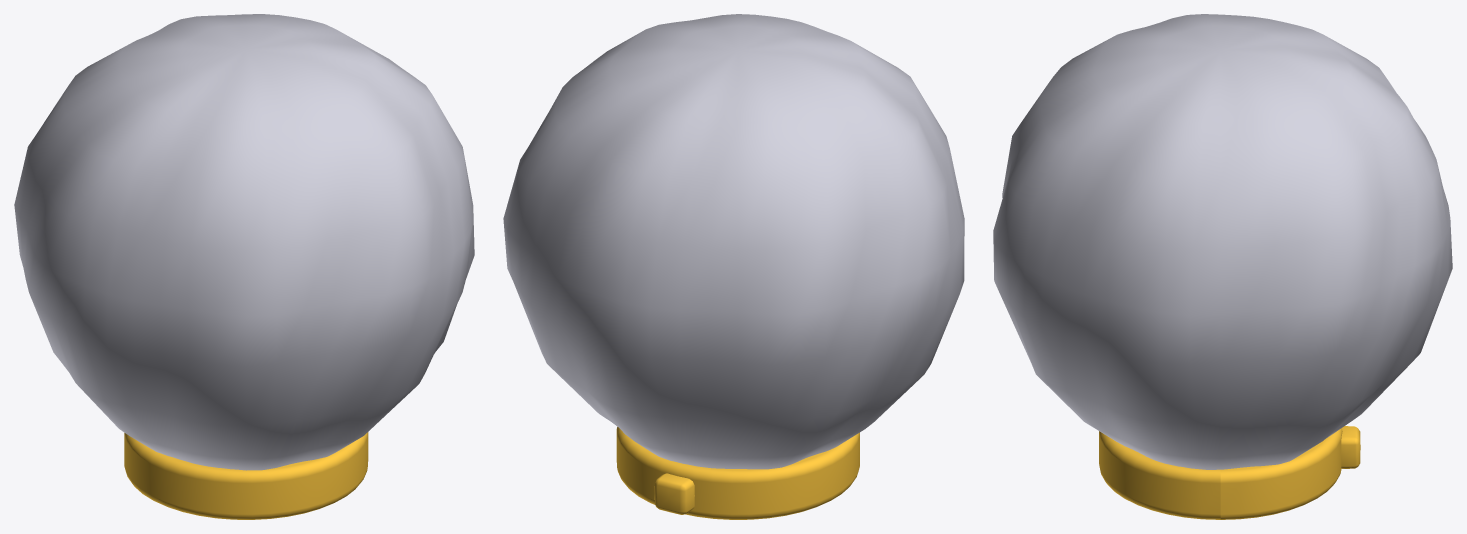
Rendered from BigBadVacuumBag.obj.
3 views of the same model, side by side, from view 1: azimuth 30°, elevation 25°; view 2: azimuth 150°, elevation 25°; view 3: azimuth 270°, elevation 25° (orthographic).
Parts seen in each view (by area): view 1: Bag, Collar; view 2: Bag, Collar; view 3: Bag, Collar.
Boxes of the visible parts, x1,y1,x2,y2 form: Bag: [14, 14, 474, 470]; Collar: [124, 432, 368, 519]; Bag: [503, 14, 964, 469]; Collar: [616, 427, 859, 519]; Bag: [993, 14, 1452, 469]; Collar: [1099, 426, 1360, 519].
Bounding box in the file's own units: 14.21 × 14.3 × 14.13.
